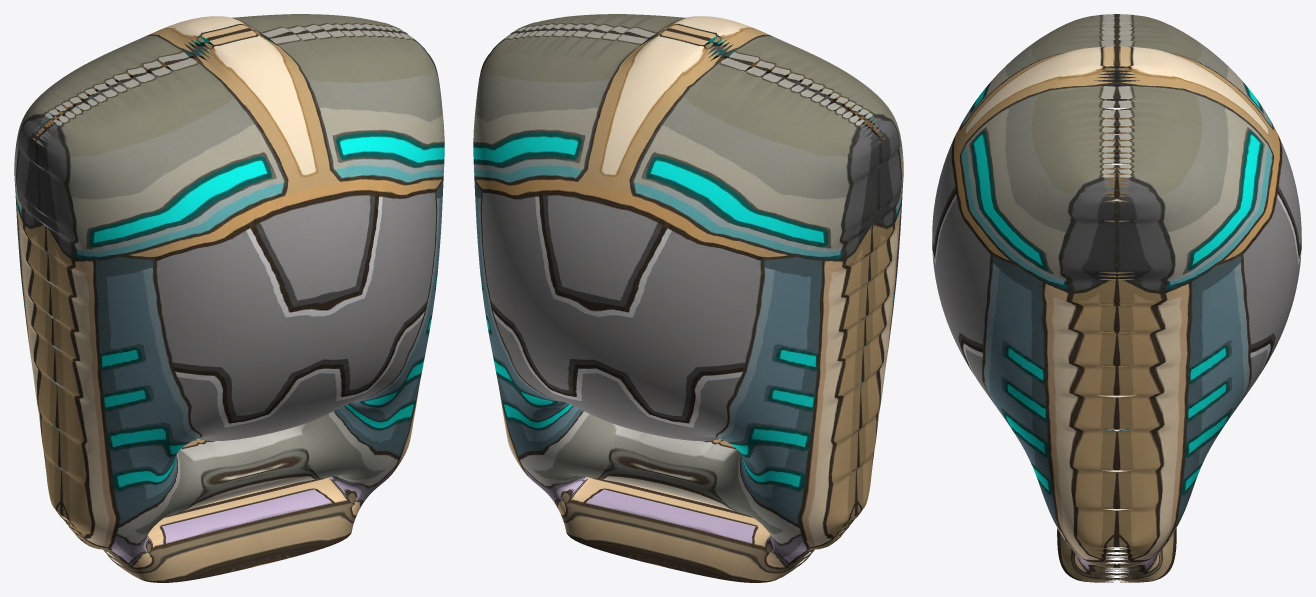
File: north_airlock.glb
The picture shows the model from 3 angles, left to right: view 1: azimuth 30°, elevation 25°; view 2: azimuth 150°, elevation 25°; view 3: azimuth 270°, elevation 25°; orthographic projection. The views are drawn at different scales.
Visible parts, largest first — view 1: north_airlock; view 2: north_airlock; view 3: north_airlock.
Boxes of the visible parts, x1,y1,x2,y2 form: north_airlock: (14,14,444,582); north_airlock: (473,14,903,582); north_airlock: (932,14,1301,582).
Size of the model in its own units: 0.9861 by 1.24 by 0.8724.
Materials: 1 (1 with a texture image).
